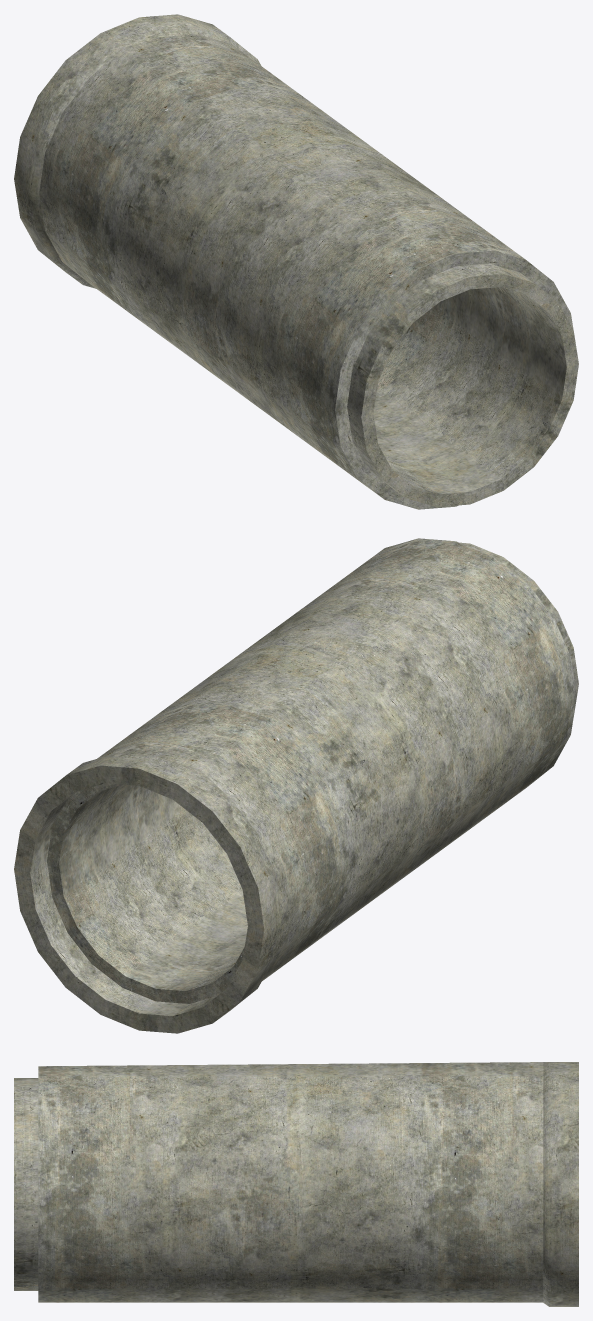
The model's file is concretePipe.fbx.
3 views of the same model, one above another, from view 1: azimuth 30°, elevation 25°; view 2: azimuth 150°, elevation 25°; view 3: azimuth 270°, elevation 25° (orthographic). The views are drawn at different scales.
Parts seen in each view (by area): view 1: pPipe1; view 2: pPipe1; view 3: pPipe1.
Part boxes in pixels (x1=…): pPipe1: x1=14, y1=14, x2=578, y2=509; pPipe1: x1=14, y1=538, x2=578, y2=1033; pPipe1: x1=14, y1=1062, x2=578, y2=1306.
Bounding box in the file's own units: 1.79 × 1.79 × 4.11.
